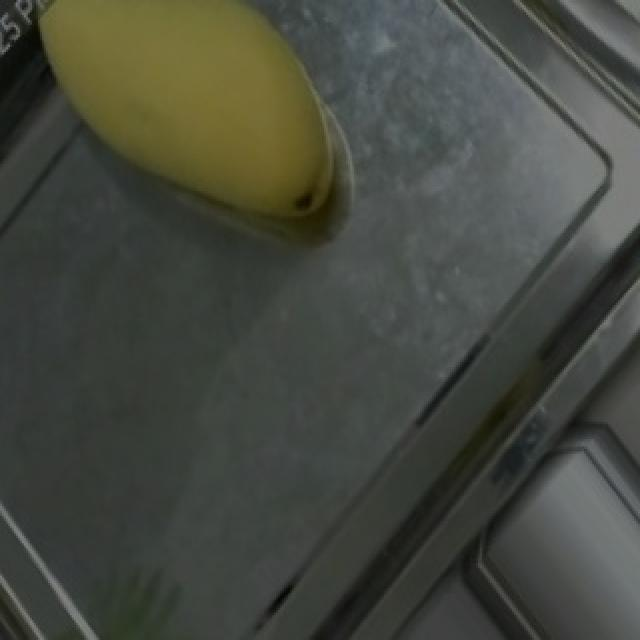fruit: (16, 0, 420, 275)
